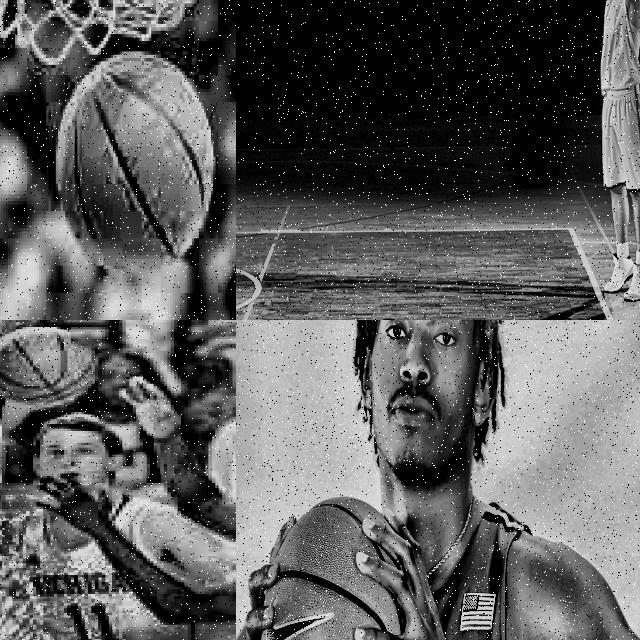Basketball: (56, 51, 216, 267), (261, 497, 403, 640), (0, 327, 98, 406)
